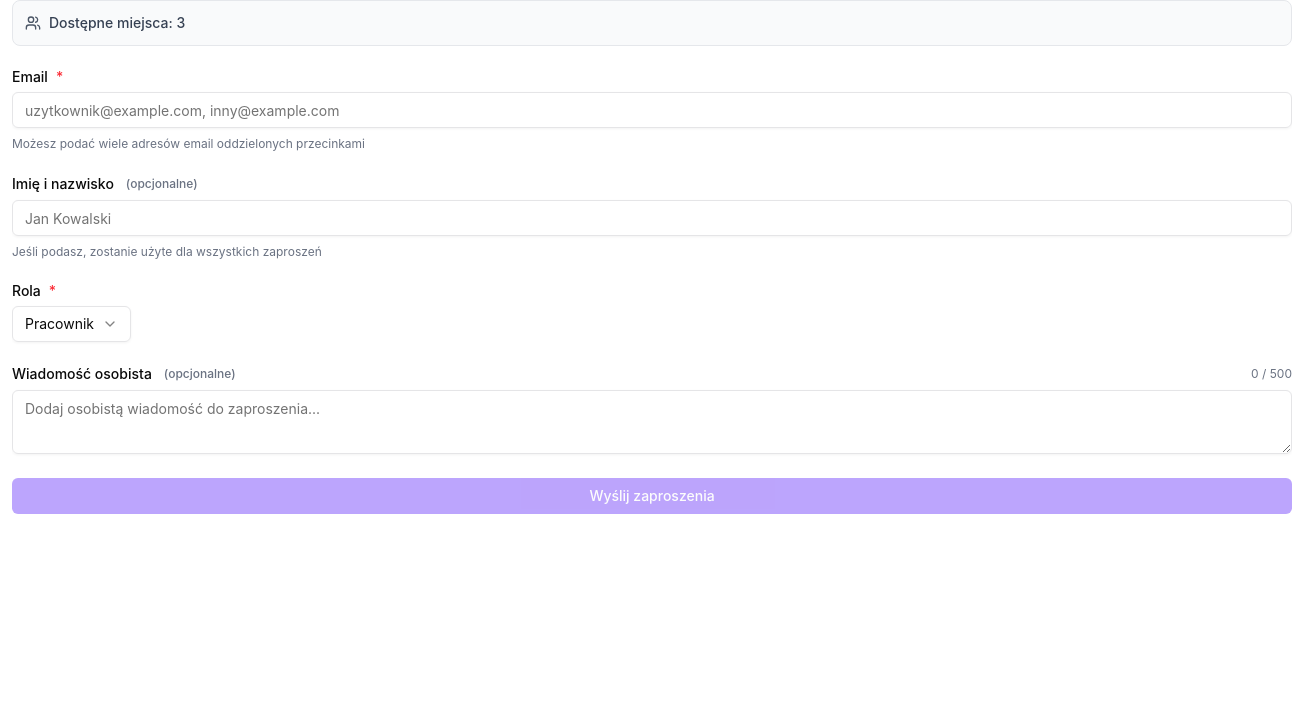
Test: InvitationForm › Seat Validation › should update seat validation in real-time as emails are added
Add 2 emails - should be OK
Type "user1@example.com, user2@example.com" into the field labelled "Email *".
click(652, 110); type("user1@example.com, user2@example.com")  # box [12,92,1292,128]
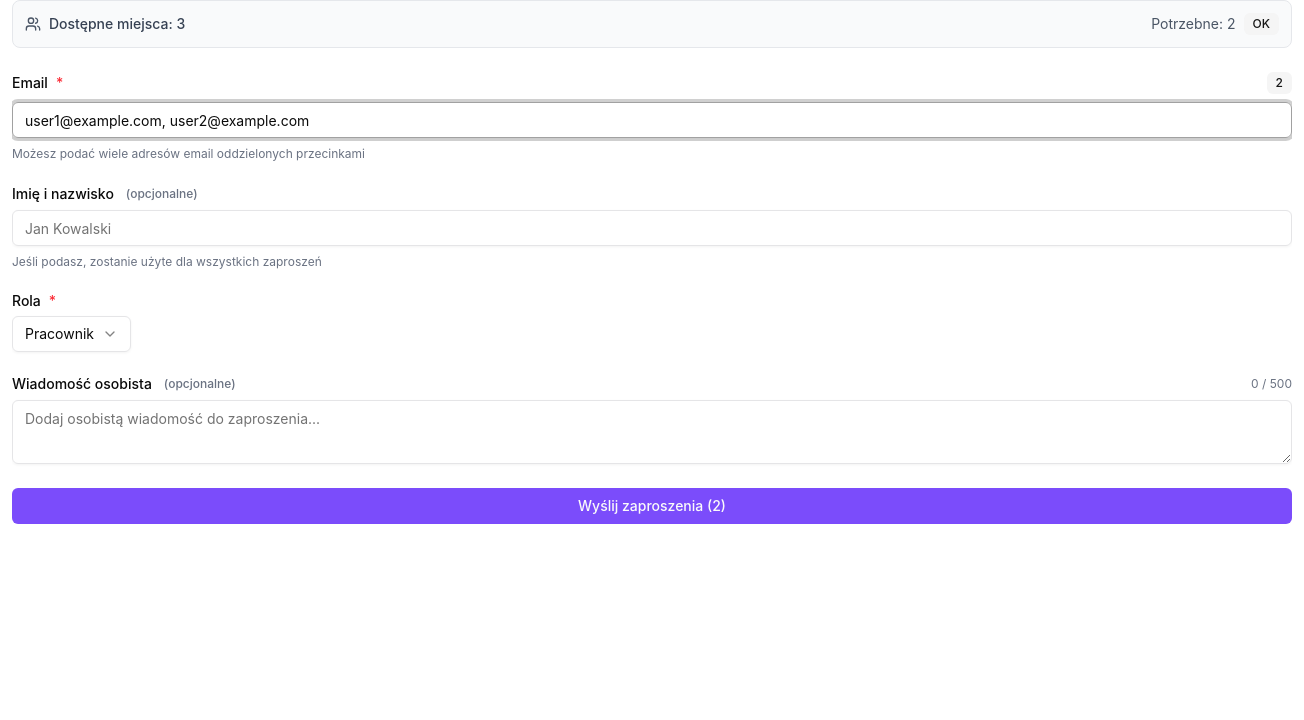
Now the text "Potrzebne: 2" is shown, box [1151,14,1236,34]
Now the text "OK" is shown, box [1244,13,1279,35]
Add 3rd email - should still be OK
Type ", user3@example.com" into the field labelled "Email *".
click(652, 120); type(", user3@example.com")  # box [12,102,1292,138]
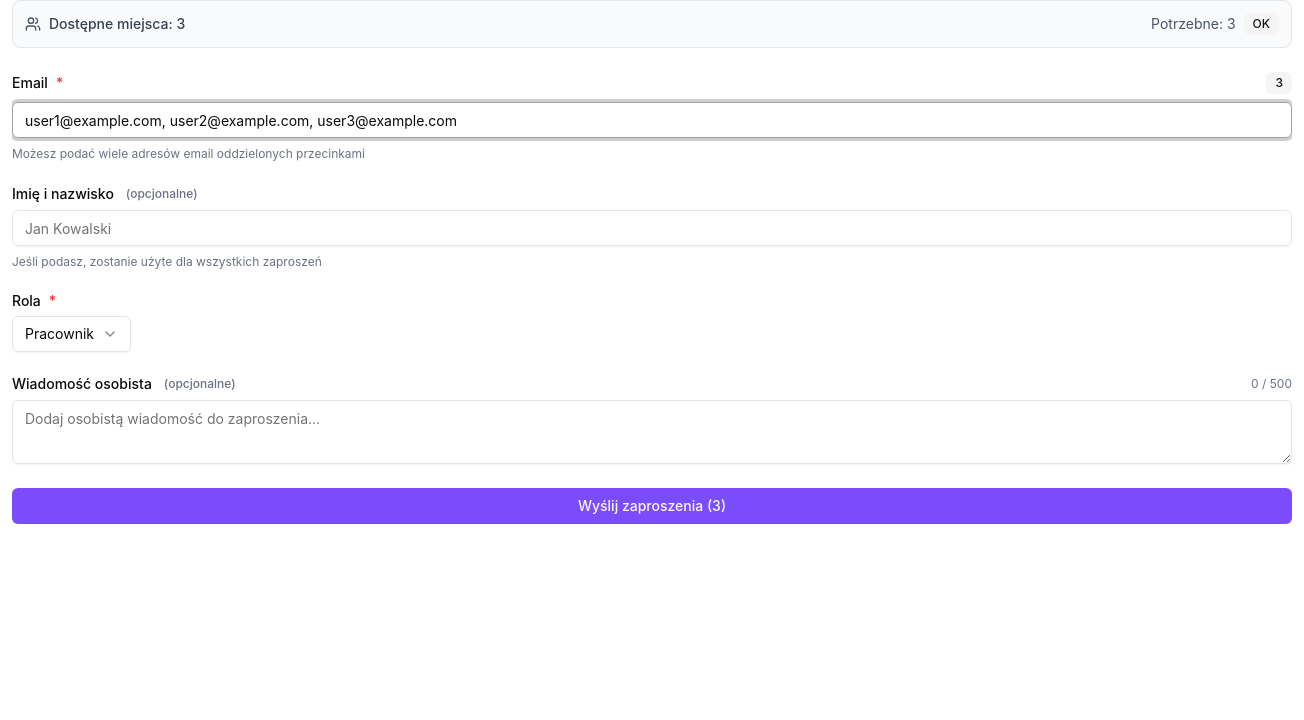
Now the text "OK" is shown, box [1244,13,1279,35]
Now the text "Potrzebne: 3" is shown, box [1151,14,1236,34]
Add 4th email - should show warning
Type ", user4@example.com" into the field labelled "Email *".
click(652, 120); type(", user4@example.com")  # box [12,102,1292,138]
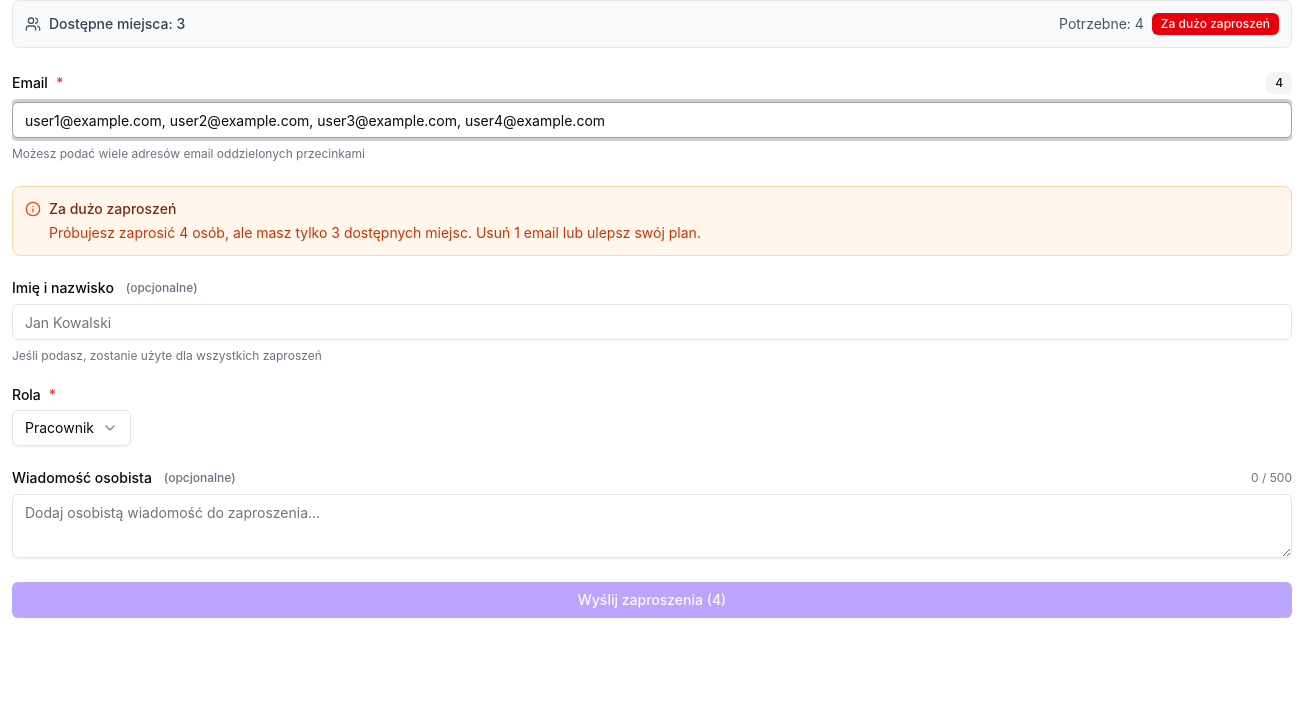
Now the text "Za dużo zaproszeń" in the row of "Potrzebne:" is shown, box [1161,16,1270,31]
